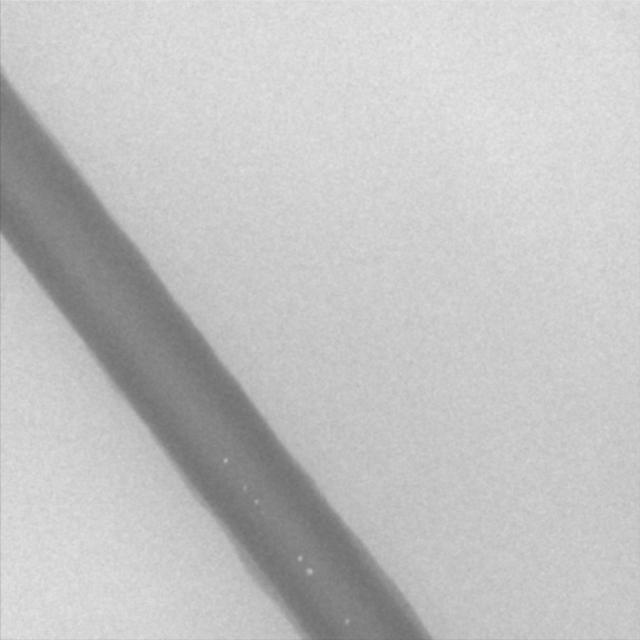air hole: (305, 566, 314, 576), (252, 497, 260, 507), (221, 455, 229, 465), (296, 552, 303, 562), (343, 617, 350, 626)
